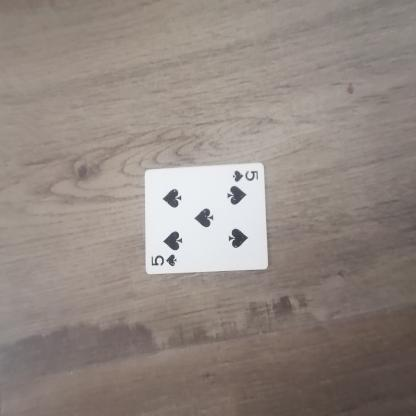5S: (226, 165, 260, 186), (148, 252, 183, 272)
